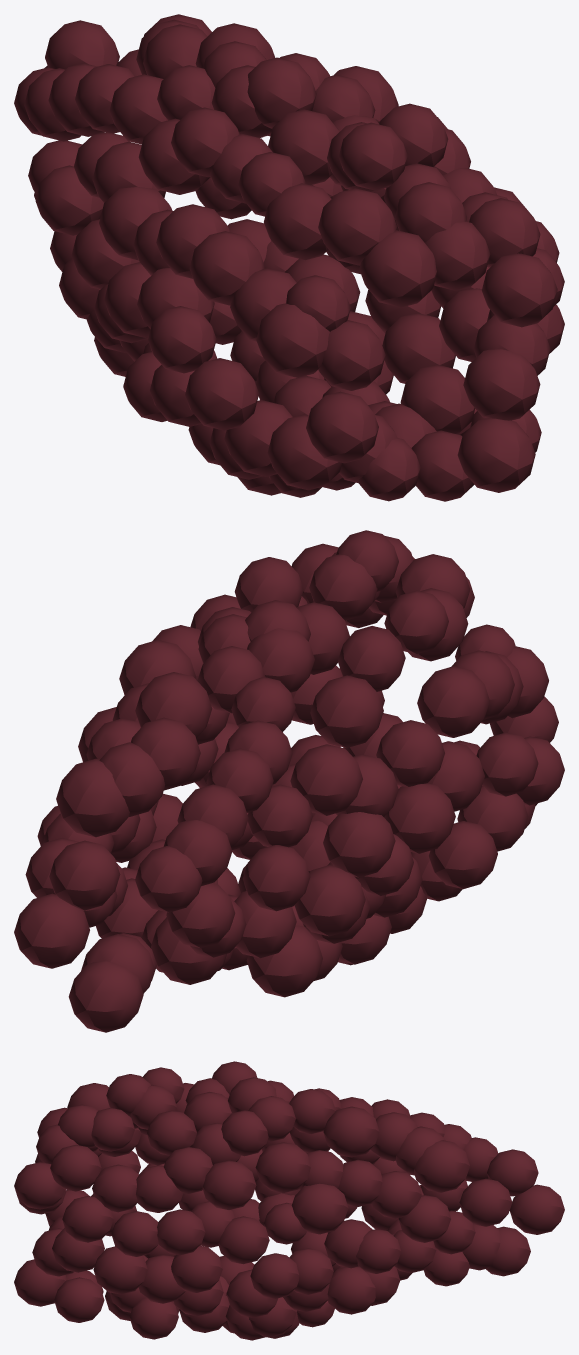
File: berries.obj
3 views of the same model, one above another, from view 1: azimuth 30°, elevation 25°; view 2: azimuth 150°, elevation 25°; view 3: azimuth 270°, elevation 25° (orthographic). The views are drawn at different scales.
Parts seen in each view (by area): view 1: berries; view 2: berries; view 3: berries.
Part boxes in pixels (x1,y1,x2,y2): berries: [14, 14, 564, 501]; berries: [14, 530, 564, 1032]; berries: [14, 1061, 564, 1340].
Bounding box in the file's own units: 0.1039 × 0.1027 × 0.1979.
